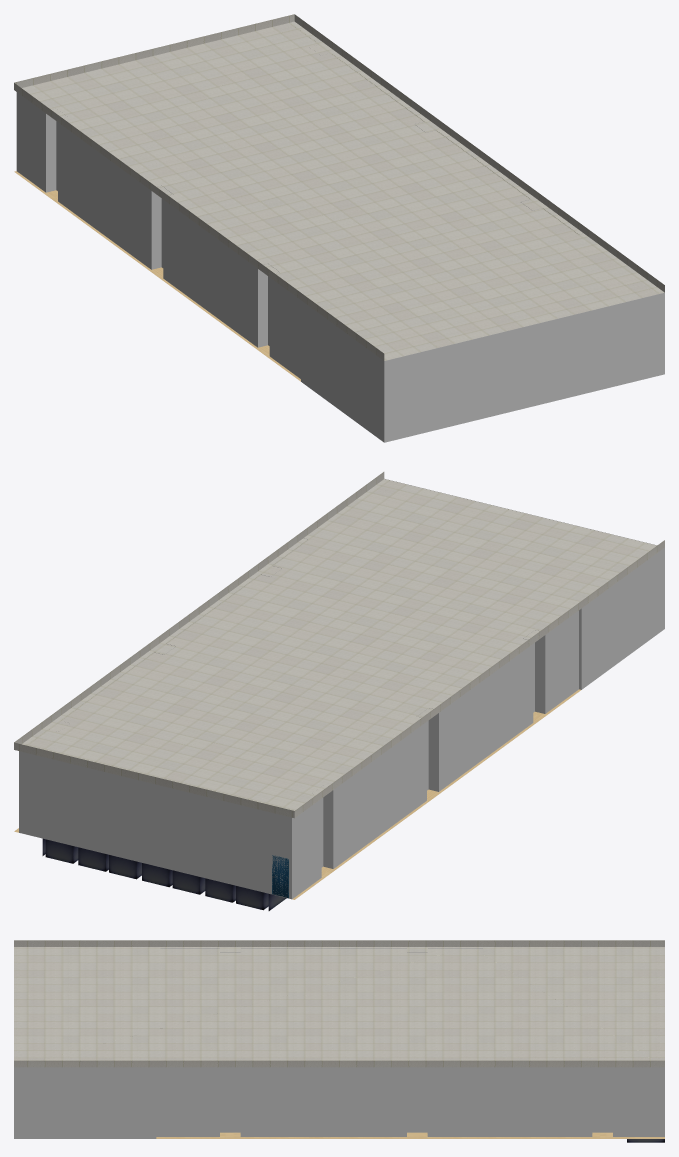
Rendered from RetroBowlRoom.fbx.
3 views of the same model, one above another, from view 1: azimuth 30°, elevation 25°; view 2: azimuth 150°, elevation 25°; view 3: azimuth 270°, elevation 25° (orthographic). The views are drawn at different scales.
Visible parts, largest first — view 1: Empty_Mesh; view 2: Empty_Mesh; view 3: Empty_Mesh.
Boxes of the visible parts, x1,y1,x2,y2 form: Empty_Mesh: (14,14,664,442); Empty_Mesh: (14,472,664,910); Empty_Mesh: (14,940,664,1142).
Size of the model in its own units: 1645 by 599 by 3760.
